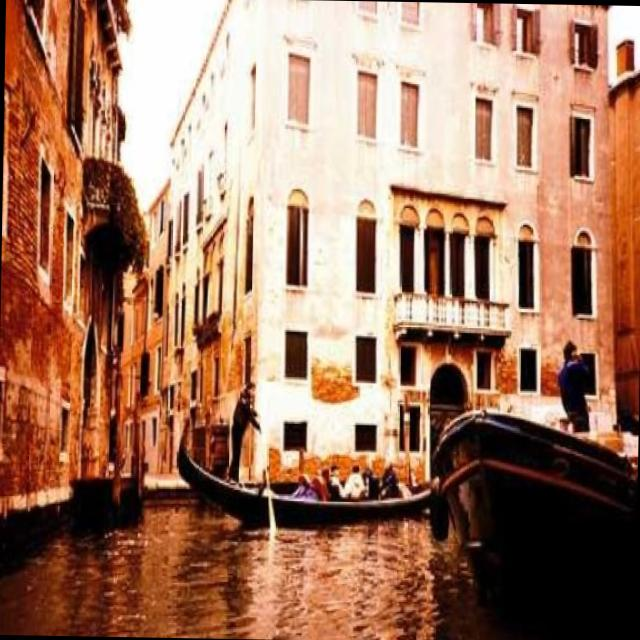boat: (426, 342, 640, 638), (168, 378, 458, 554)
